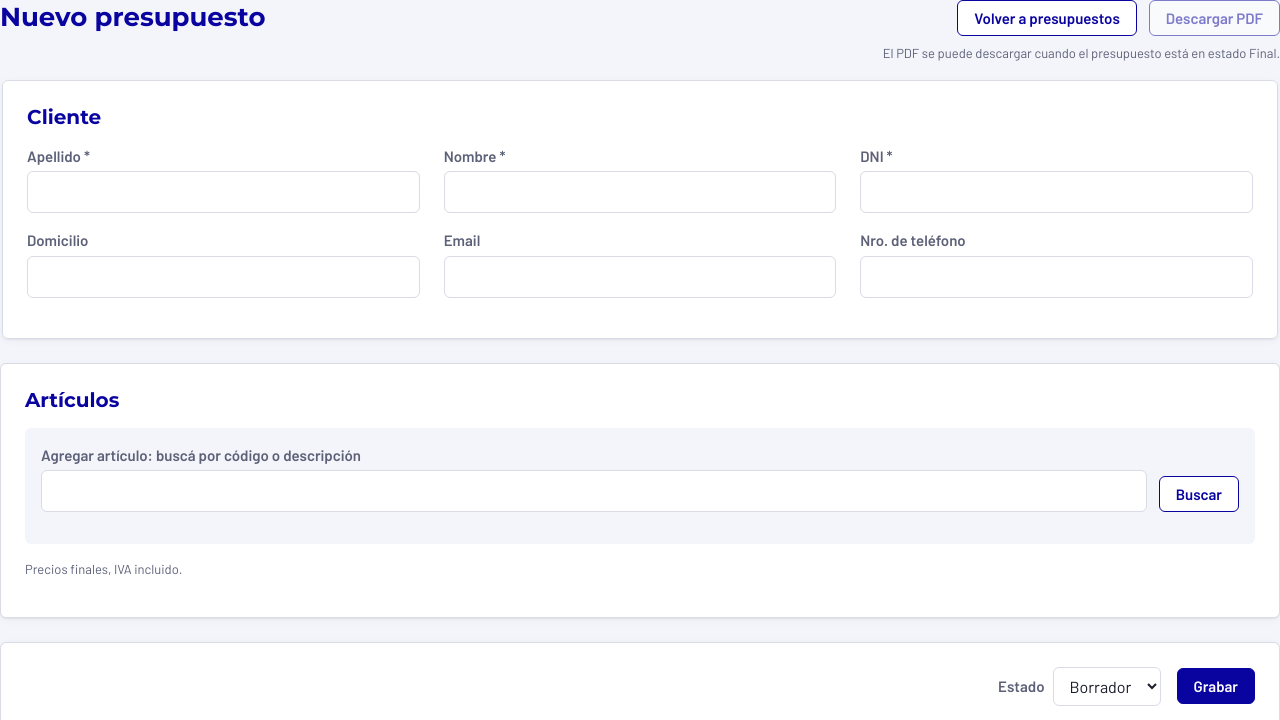
pantalla de presupuesto › AC-29 y AC-46: recalcula en vivo al cambiar cantidad y descuento, redondeando como el servidor
The image size is (1280, 720).
Step 1. Type "lente" into the search field labelled "Agregar artículo: buscá por código o descripción" → (594, 491), box [41,470,1147,512]
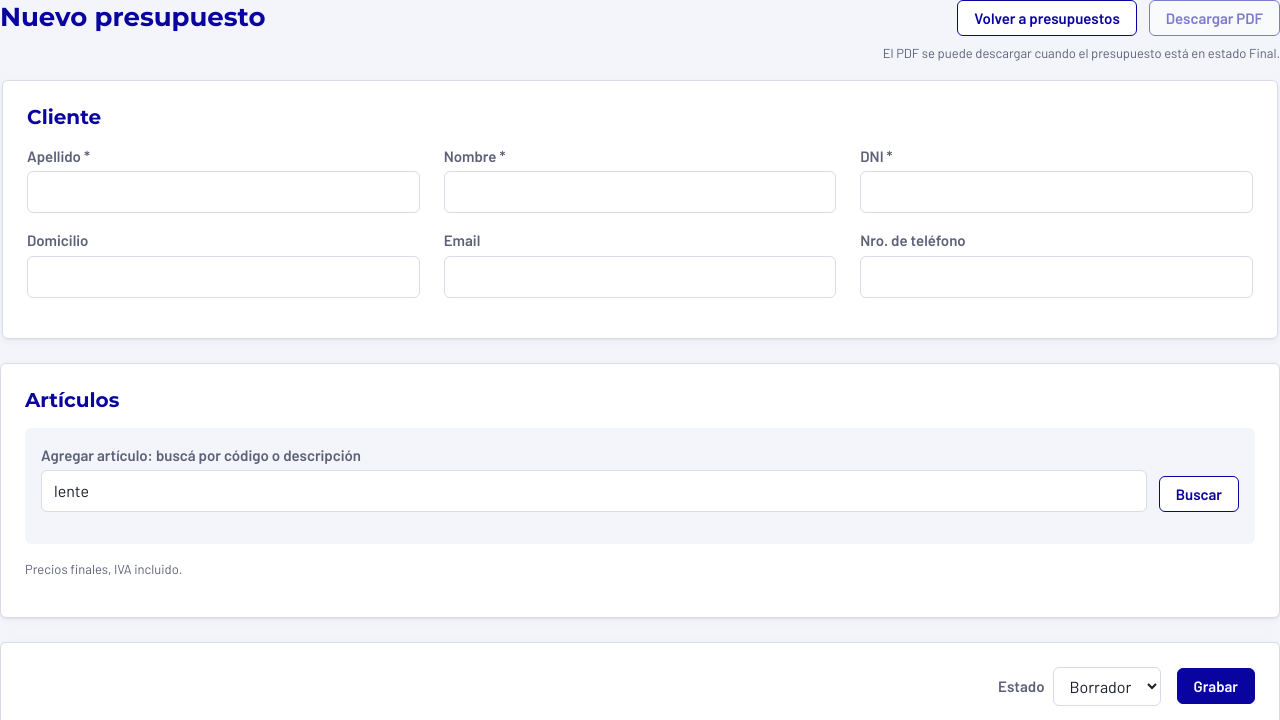
Step 2. Click the button "Buscar" → (1199, 494), box [1159,476,1239,512]
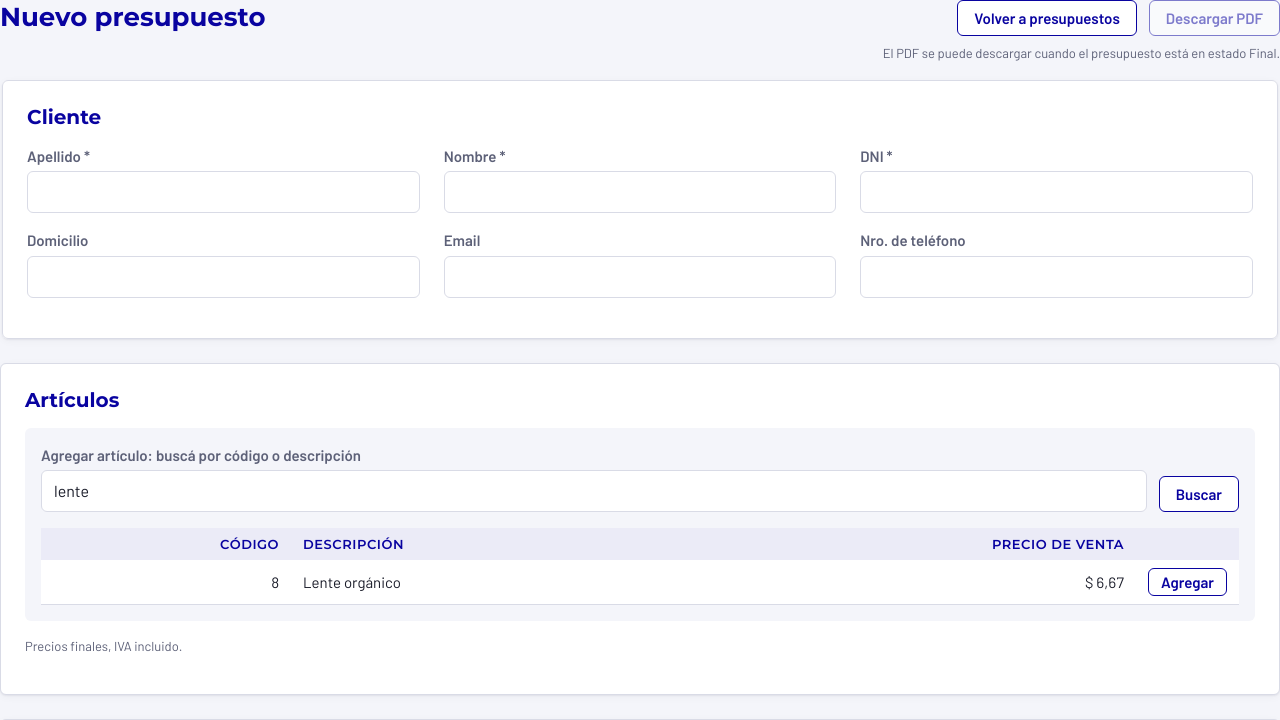
Step 3. Click the button "Agregar" → (1188, 582), box [1148,568,1227,596]
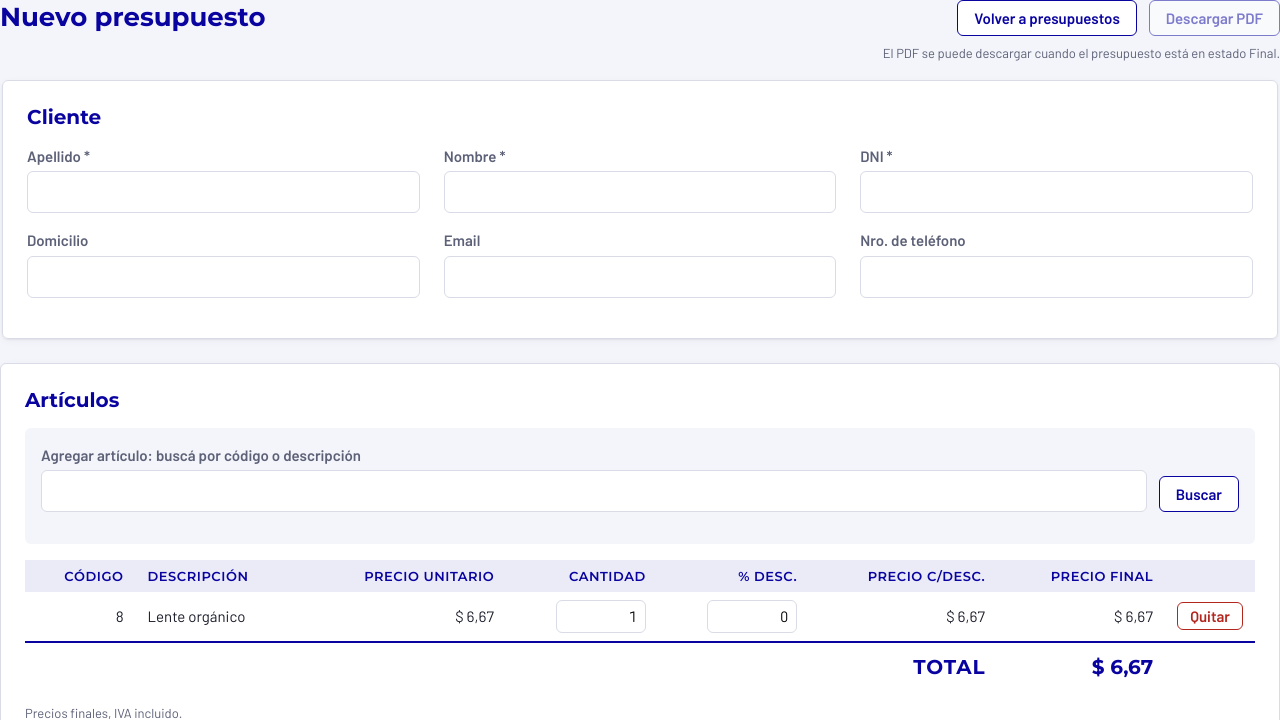
Step 4. Replace the text in the field named "Cantidad de la línea 1" with "3" → (601, 616), box [556,600,646,632]
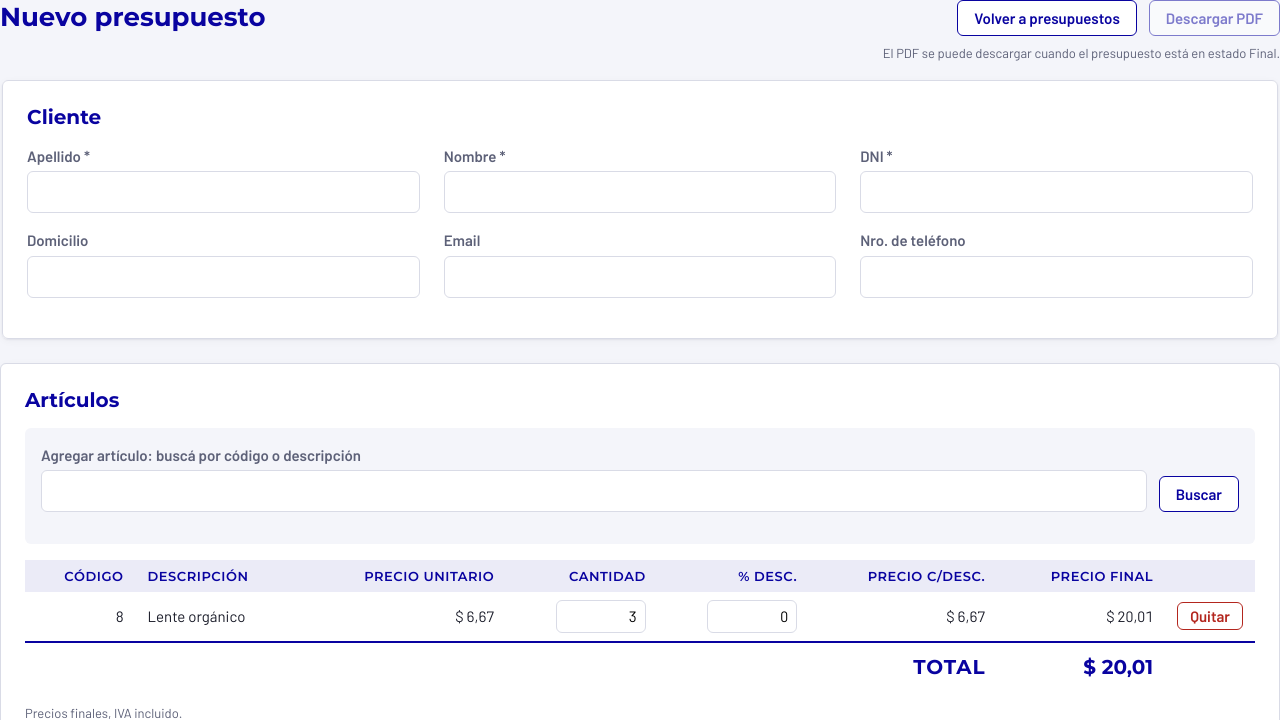
Step 5. Replace the text in the field named "Descuento de la línea 1" with "50" → (752, 616), box [707,600,797,632]
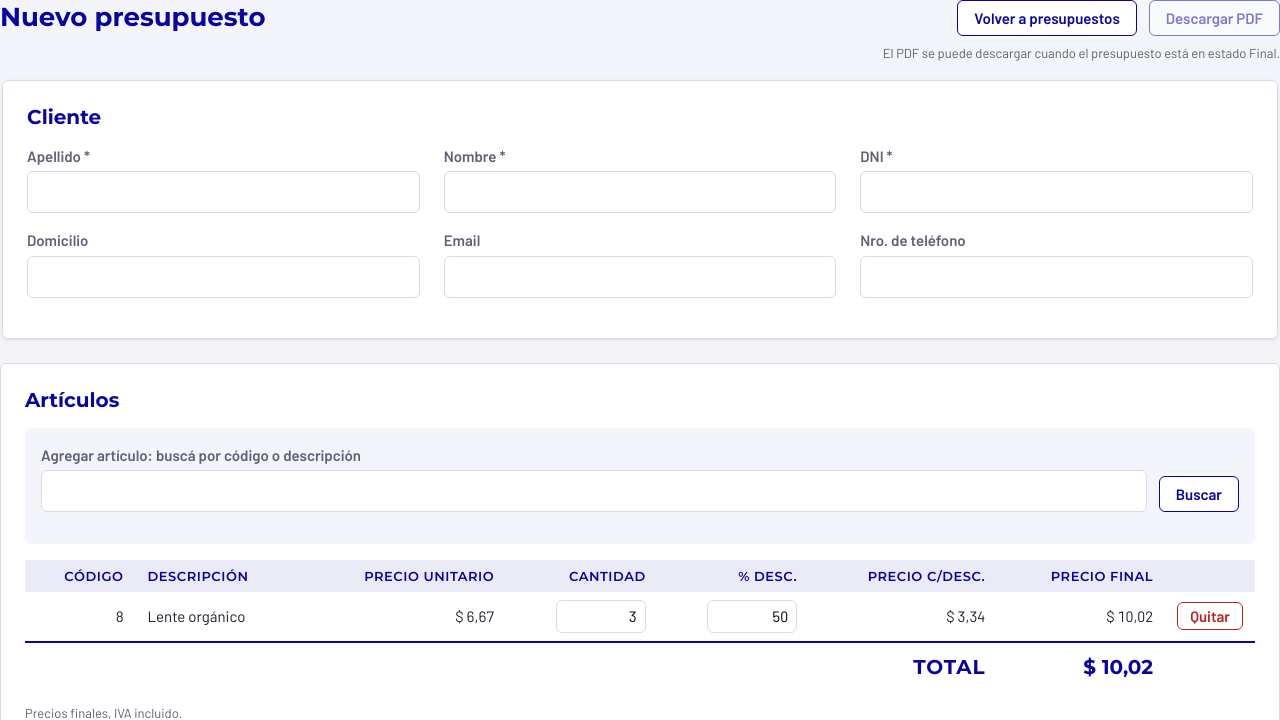
Now the cell with test id "con-descuento-0" shows "3,34", box [946,607,985,625]
Now the cell with test id "precio-final-0" shows "10,02", box [1106,607,1153,625]
Now the cell with test id "total" shows "10,02", box [1083,654,1153,678]
